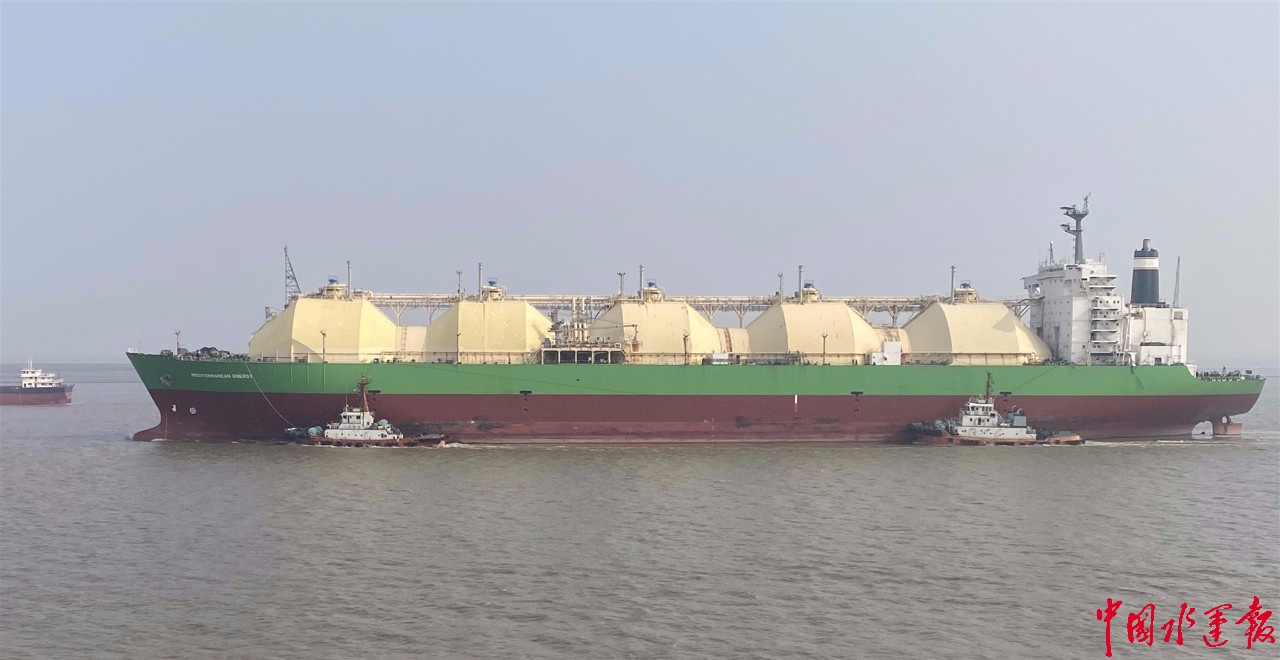Cargoship: (107, 177, 1263, 457), (3, 359, 73, 410)
otherboat: (900, 368, 1084, 452), (276, 374, 444, 453)
